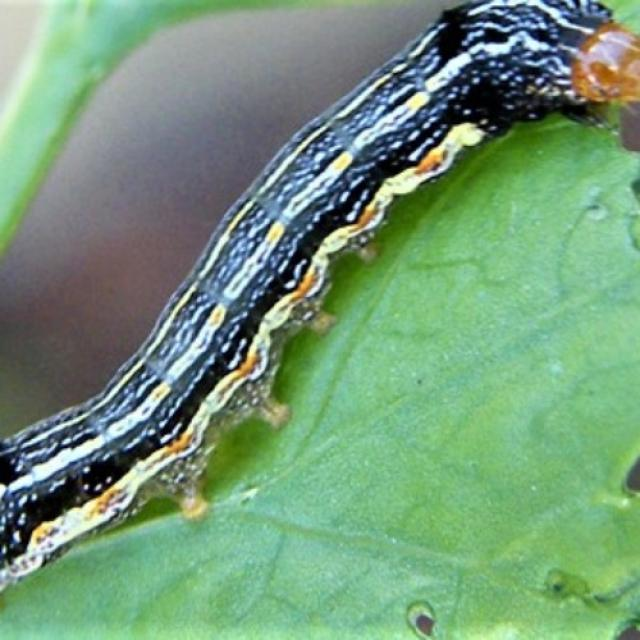armyworm: (0, 0, 639, 626)
